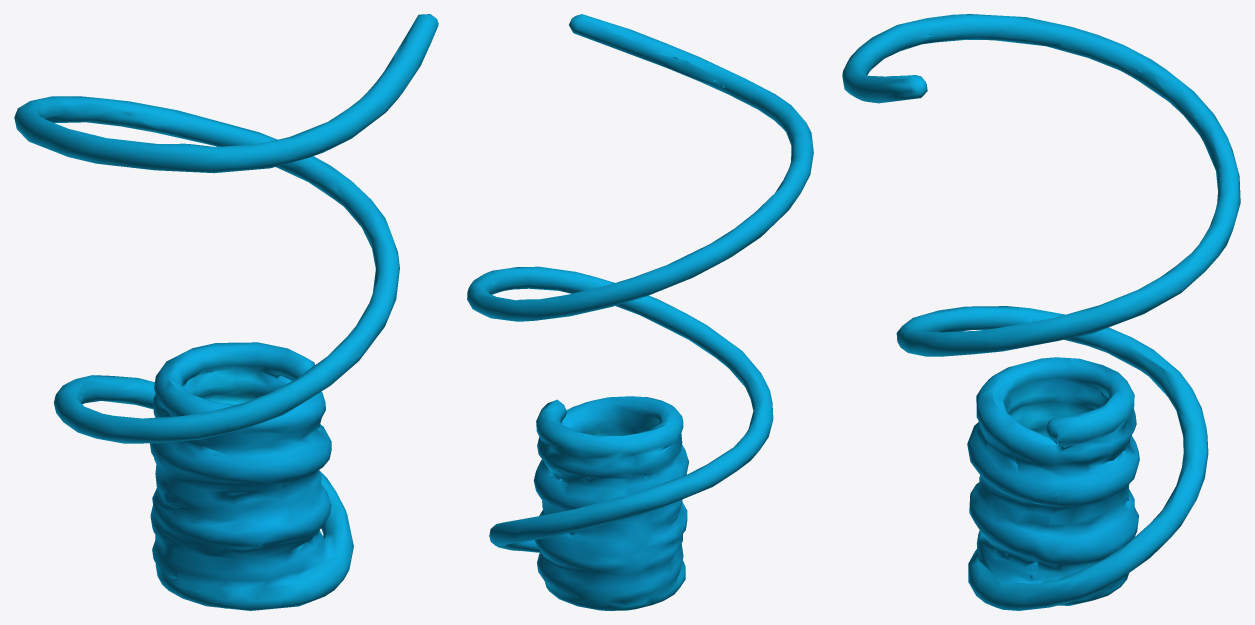
Rendered from 03_4_gj_pen_holder.glb.
3 views of the same model, side by side, from view 1: azimuth 30°, elevation 25°; view 2: azimuth 150°, elevation 25°; view 3: azimuth 270°, elevation 25° (orthographic). The views are drawn at different scales.
Parts seen in each view (by area): view 1: tripo_material_56470869-325a-4c91-9f7d-c25e4cbbff2c; view 2: tripo_material_56470869-325a-4c91-9f7d-c25e4cbbff2c; view 3: tripo_material_56470869-325a-4c91-9f7d-c25e4cbbff2c.
Boxes of the visible parts, left/top/right/bottom form: tripo_material_56470869-325a-4c91-9f7d-c25e4cbbff2c: left=14, top=14, right=438, bottom=610; tripo_material_56470869-325a-4c91-9f7d-c25e4cbbff2c: left=467, top=14, right=813, bottom=610; tripo_material_56470869-325a-4c91-9f7d-c25e4cbbff2c: left=842, top=14, right=1240, bottom=610.
Size of the model in its own units: 0.1688 by 0.2803 by 0.1826.
Materials: 1 (1 with a texture image).
